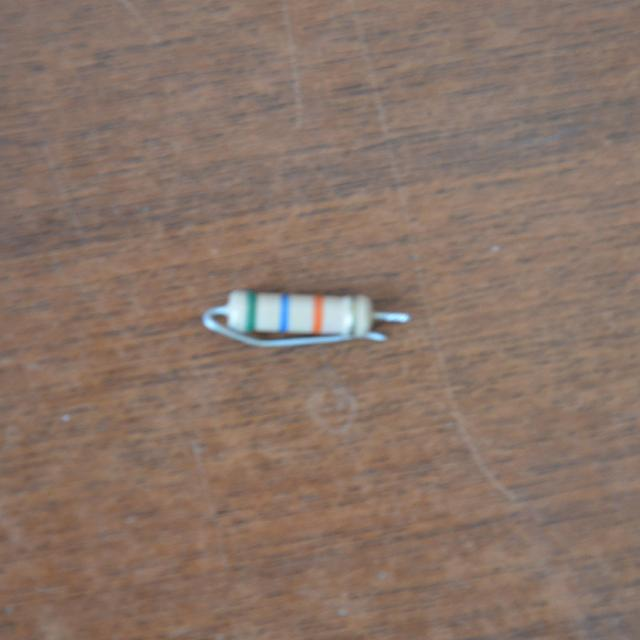blue: (280, 294, 289, 332)
gold: (348, 294, 357, 336)
green: (247, 290, 256, 330)
orange: (315, 295, 323, 331)
resistor: (220, 278, 380, 349)
